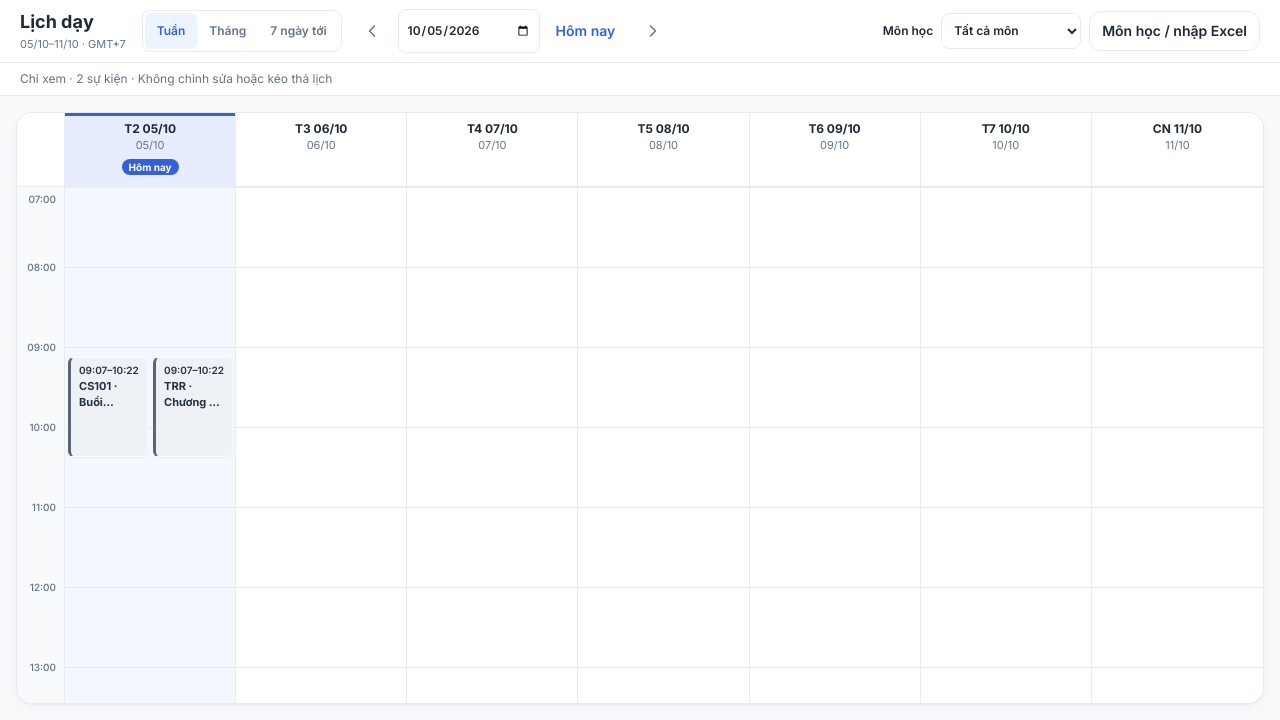
Test: InstructorSchedulePage read-only calendar › opens a view-only detail dialog and never exposes save controls
Click the button titled "09:07–10:22 · Buổi Python": (108, 406) [68, 356, 148, 456]
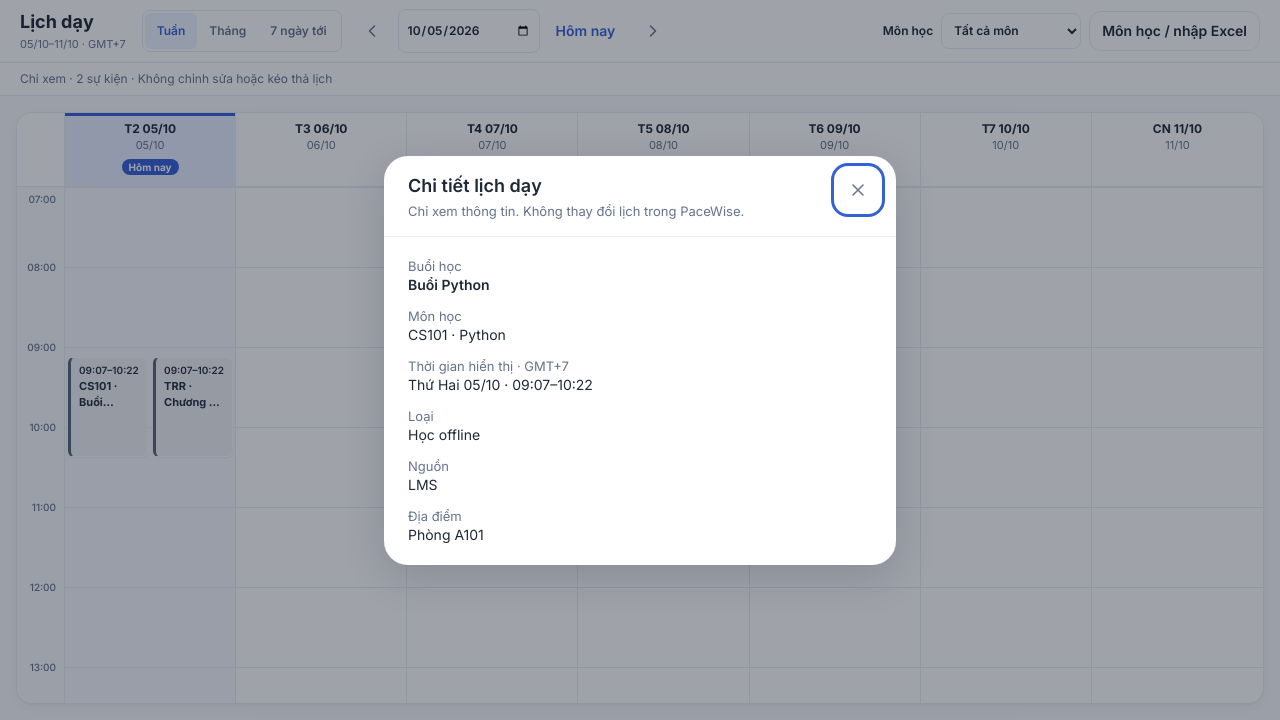
expect the text "Phòng A101" is shown: met, box [408, 526, 484, 542]
expect the text "CS101 · Python" is shown: met, box [408, 326, 506, 342]
Press Escape
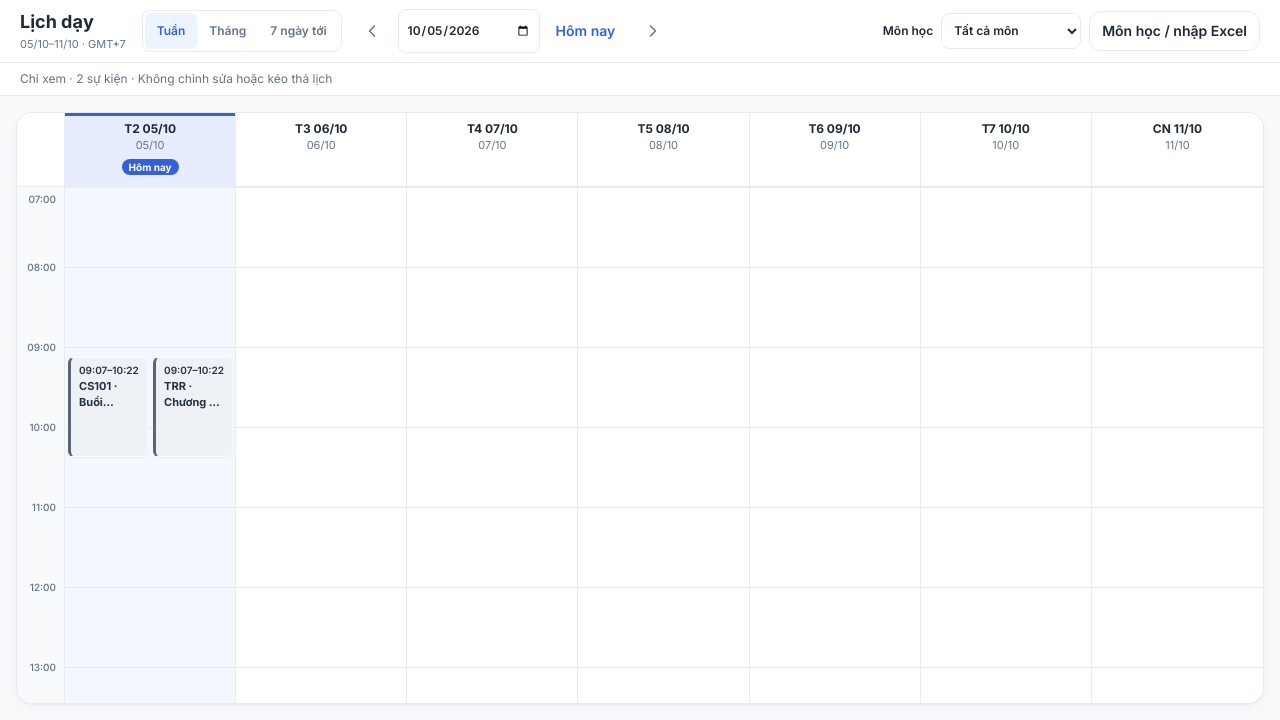
expect the dialog is gone: met
